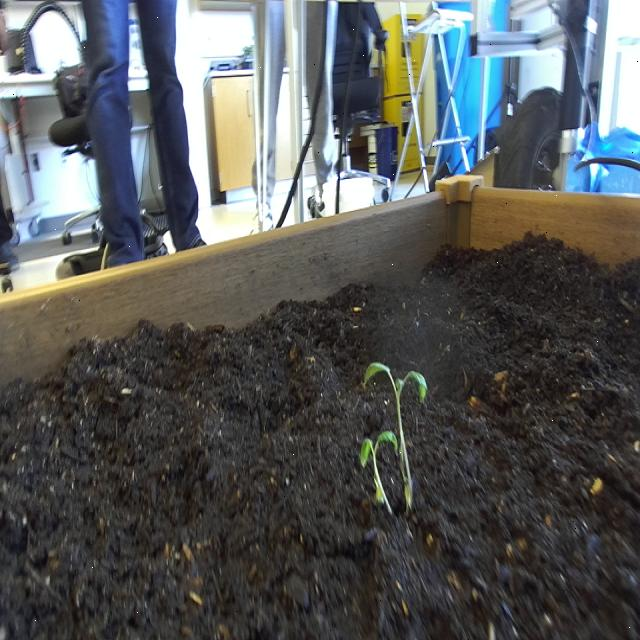Healthy: (360, 351, 429, 517), (358, 424, 400, 526)
